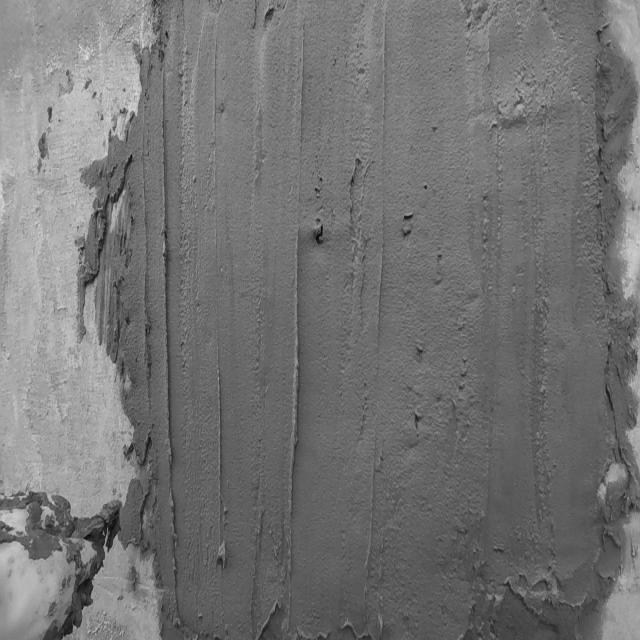trowels marks: (154, 74, 182, 592), (290, 231, 304, 525), (217, 362, 226, 599)
